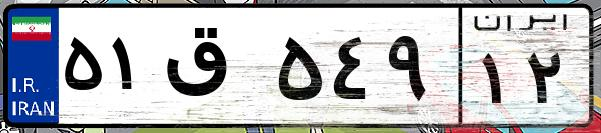1: (475, 38, 525, 113), (110, 28, 158, 98)
2: (525, 38, 570, 115)
4: (330, 28, 385, 110)
5: (270, 28, 330, 110), (57, 26, 110, 100)
9: (385, 28, 445, 110)
ق: (158, 20, 270, 120)
